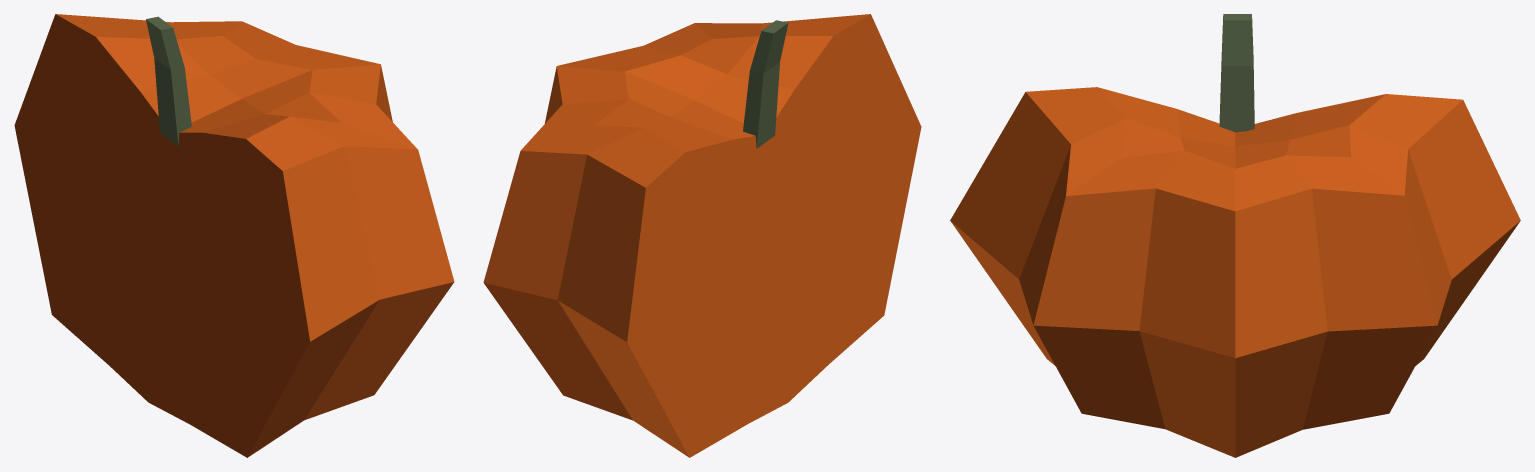
Rendered from pumpkinHalf.fbx.
3 renders of one model, left to right at view 1: azimuth 30°, elevation 25°; view 2: azimuth 150°, elevation 25°; view 3: azimuth 270°, elevation 25°, orthographic. The views are drawn at different scales.
Parts seen in each view (by area): view 1: pumpkinHalf; view 2: pumpkinHalf; view 3: pumpkinHalf.
Part boxes in pixels (left/top/right/bottom): pumpkinHalf: left=14, top=14, right=454, bottom=457; pumpkinHalf: left=483, top=14, right=921, bottom=457; pumpkinHalf: left=950, top=14, right=1520, bottom=457.
Bounding box in the file's own units: 15.94 × 22.07 × 31.41.
1 material, 1 textured.
